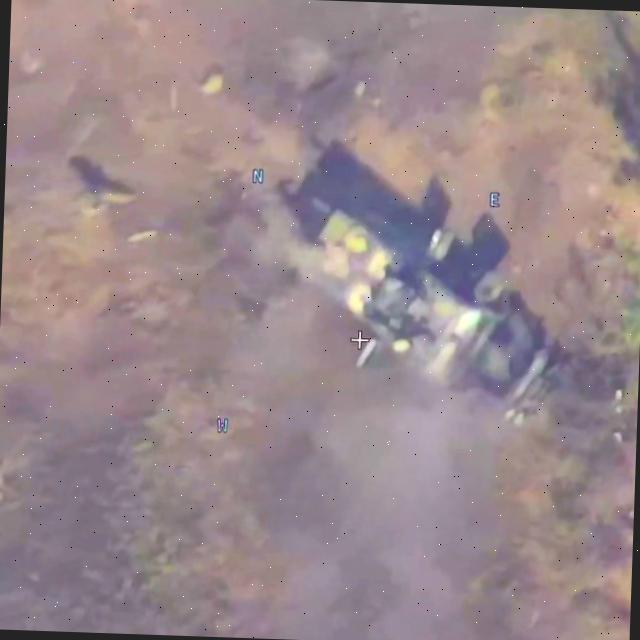Vehicle: (288, 184, 565, 435)
